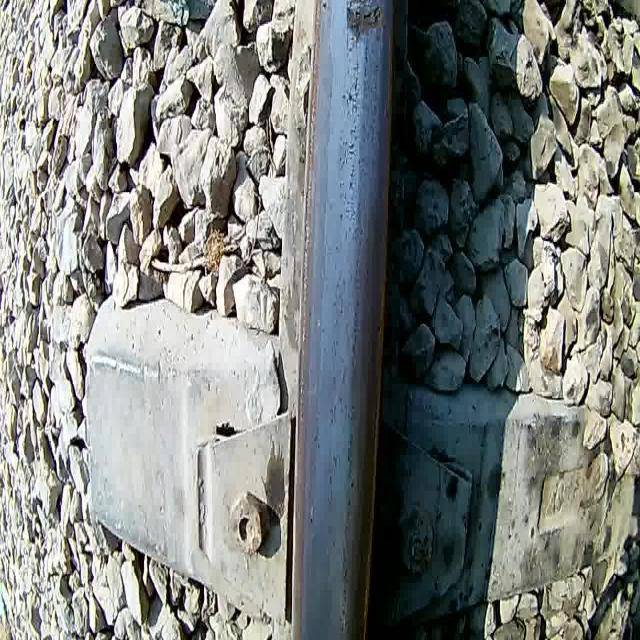Spallings: (343, 0, 387, 46)
